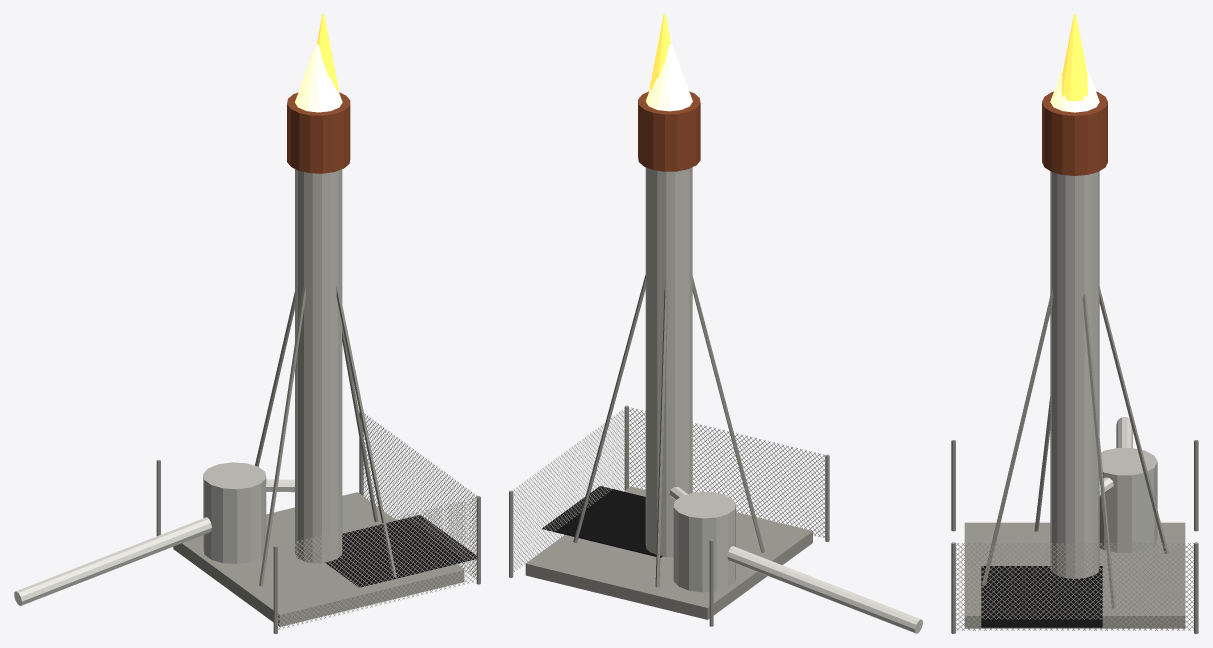
File: landfill_flare.glb
The picture shows the model from 3 angles, left to right: view 1: azimuth 30°, elevation 25°; view 2: azimuth 150°, elevation 25°; view 3: azimuth 270°, elevation 25°; orthographic projection. The views are drawn at different scales.
Parts seen in each view (by area): view 1: landfill_flare; view 2: landfill_flare; view 3: landfill_flare.
Boxes of the visible parts, x1=… form: landfill_flare: x1=14, y1=14, x2=480, y2=633; landfill_flare: x1=509, y1=14, x2=922, y2=633; landfill_flare: x1=951, y1=14, x2=1198, y2=633.
Size of the model in its own units: 8.52 by 11.4 by 4.48.
